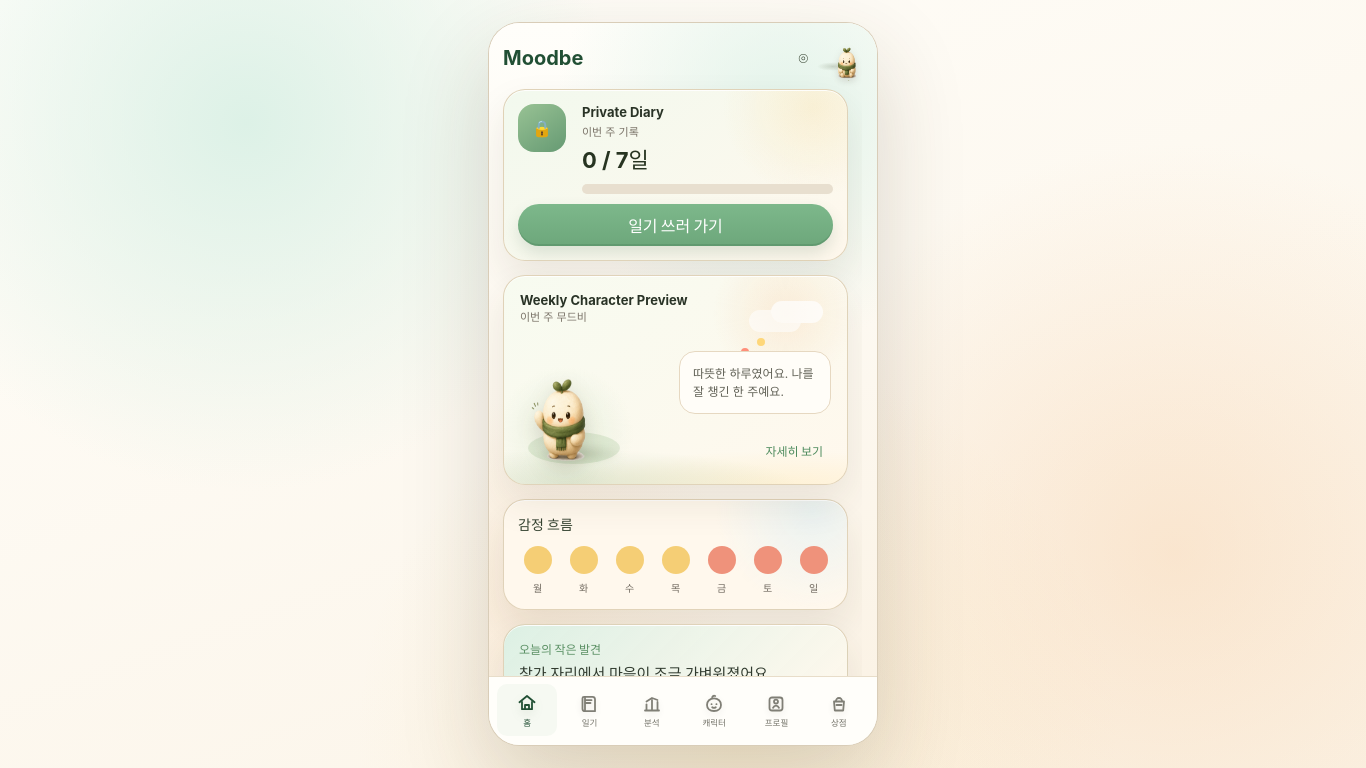
Test: App navigation › navigates between the core app screens
The width and height of the screenshot is (1366, 768).
Click the button "일기": (589, 710) [559,684,620,736]
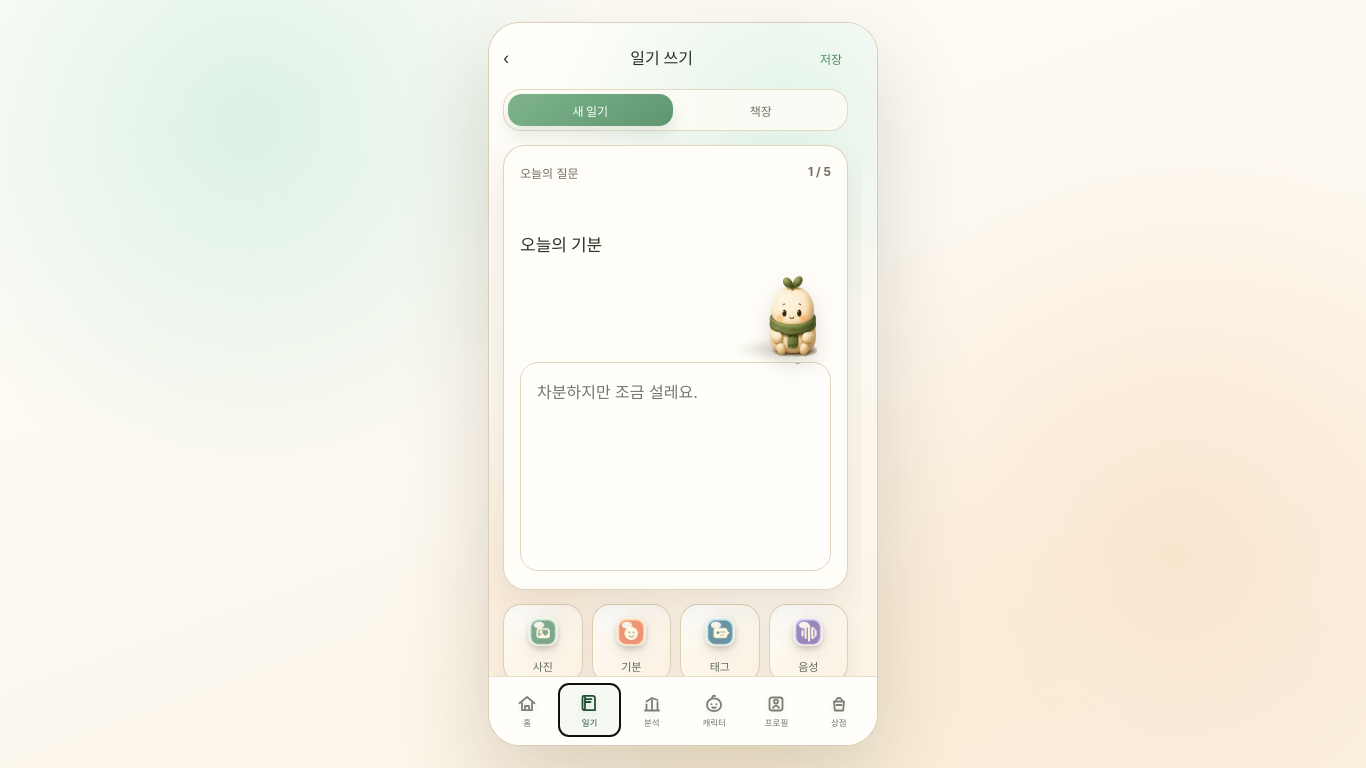
Expected: the element with class "diary-screen" is shown, [489,23,862,676]
Click the button "분석": (652, 710) [622,684,682,736]
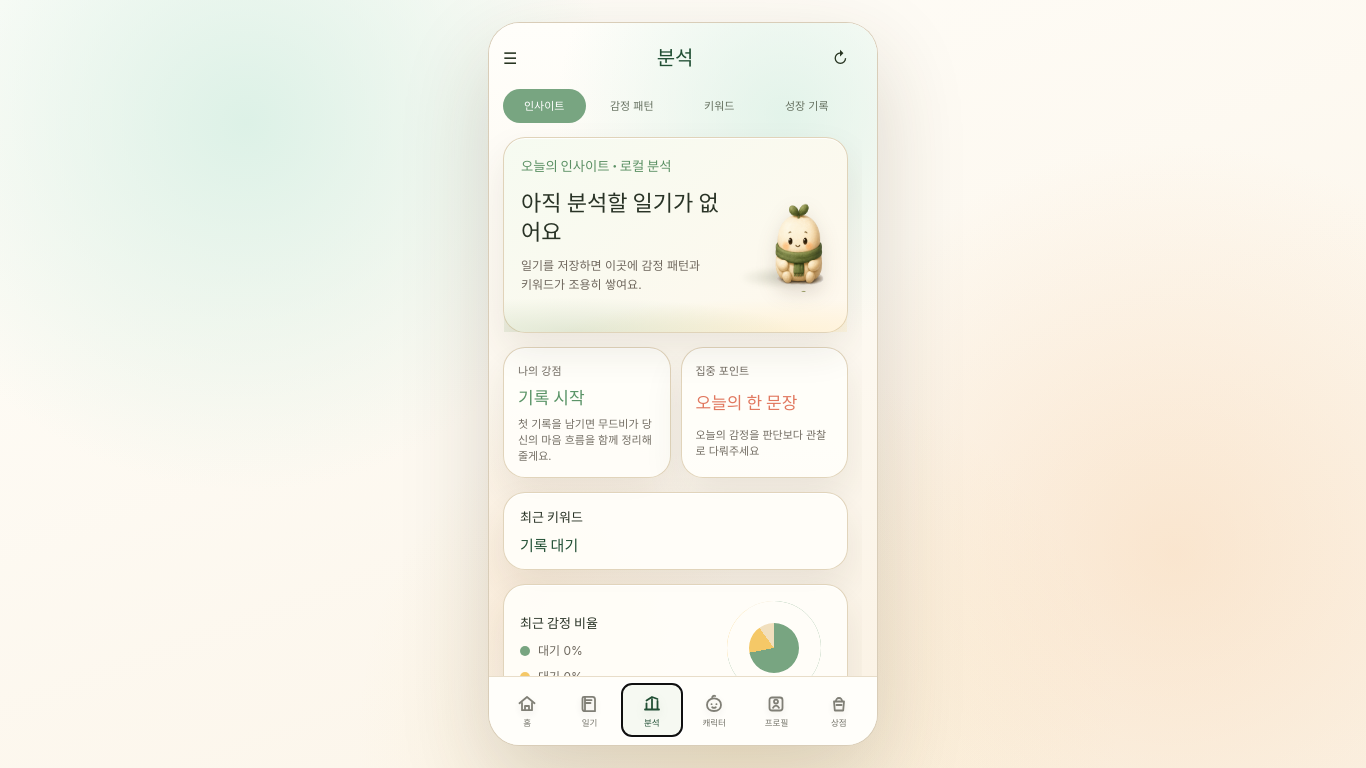
Expected: the element with class "insights-screen" is shown, [489,23,862,676]
Click the button "캐릭터": (714, 710) [684,684,744,736]
(page scrolled)
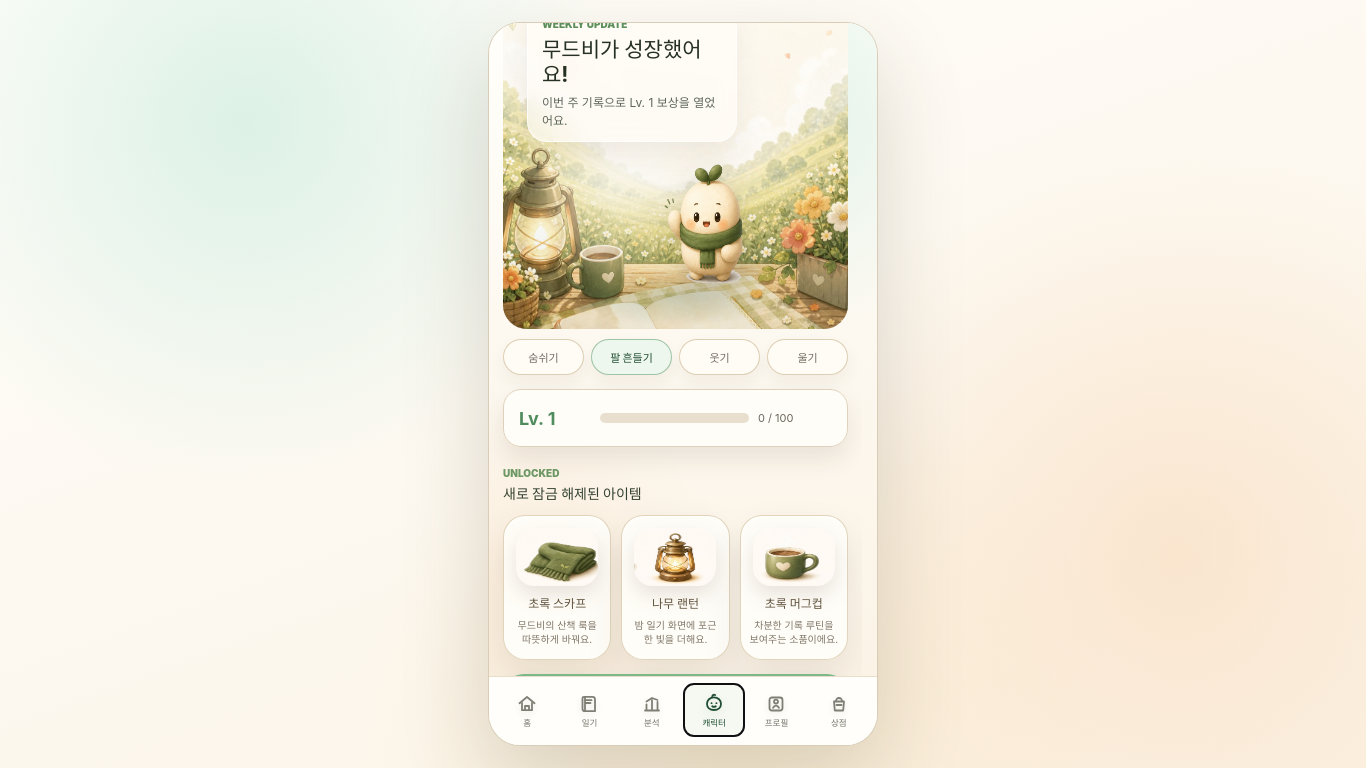
Expected: the element with class "character-screen" is shown, [489,23,862,676]
